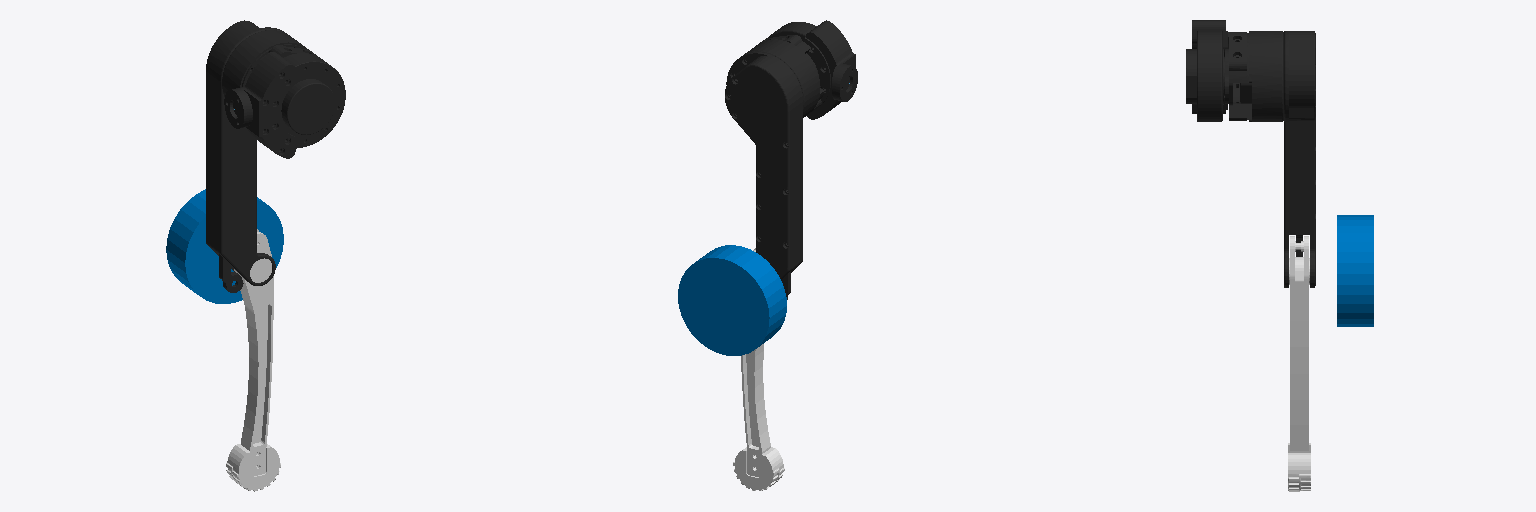
robot.urdf — single_leg:
<?xml version="1.0" ?>
<robot name="single_leg">

  <material name="blue">
    <color rgba="0.0 0.5 0.8 0.9"/>
  </material>

  <material name="black1">
    <color rgba="0.2 0.2 0.2 1"/>
  </material>

  <material name="white">
    <color rgba="0.9 0.9 0.9 0.5"/>
  </material>

  <link name="world"/>

  <joint name="fixed" type="fixed">
    <origin rpy="0 0 0" xyz="0 0 0.5"/>
    <parent link="world"/>
    <child link="base"/>
  </joint>

  <link name="base">
    <visual>
      <origin rpy="0 0 0" xyz="0 0 0"/>
      <geometry>
        <box size="0.001 0.001 0.001"/>
      </geometry>
    </visual>
  </link>

  <!--Front Left-->
  <link name="FL_hip">
    <inertial>
      <origin xyz="0.058975220413676505 -0.016130924422260128 -9.470708630414767e-05" rpy="0 0 0"/>
      <mass value = "0.7498"/>
      <inertia ixx = "0.000564" iyy = "0.00108127" izz = "0.000706572" ixy = "3.86383e-05" iyz = "0" ixz = "0"/>
    </inertial>
    <visual>
      <origin xyz="0.0 0.0 0.0" rpy="0 0 0"/>
      <geometry>
        <mesh filename="../meshes/hip_roll_1.stl" scale="0.001 0.001 0.001"/>
      </geometry>
      <material name="black1"/>
    </visual>
<!--    <collision>-->
<!--      <origin xyz="-0.185613 -0.065216 -0.000494" rpy="0 0 0"/>-->
<!--      <geometry>-->
<!--        <mesh filename="../meshes/hip_roll_1.stl" scale="0.001 0.001 0.001"/>-->
<!--      </geometry>-->
<!--    </collision>-->
  </link>

  <link name="FL_thigh">
    <inertial>
      <origin xyz="-0.005295476492297502 0.055863741051553104 -0.02739556562567192" rpy="0 0 0"/>
      <mass value = "1.539"/>
      <inertia ixx = "0.00728621" iyy = "0.00719179" izz = "0.00186201" ixy = "0.000190838" iyz = "0.00118773" ixz = "-0.000781702"/>
    </inertial>
    <visual>
      <origin xyz="-0.0705 0.003 0.0" rpy="0 0 0"/>
      <geometry>
        <mesh filename="../meshes/hip_pitch_1.stl" scale="0.001 0.001 0.001"/>
      </geometry>
      <material name="black1"/>
    </visual>
    <collision>
      <origin xyz="0 0.084 -0.23" rpy="1.57079632679 0 0"/>
      <geometry>
        <cylinder length="0.019" radius="0.015"/>
      </geometry>
    </collision>
  </link>

  <link name="FL_calf">
    <inertial>
      <origin xyz="0.00031304711228058446 0.018663901688305173 -0.11805864385255102" rpy="0 0 0"/>
      <mass value = "0.268"/>
      <inertia ixx = "0.00278652" iyy = "0.00280706" izz = "4.43533e-05" ixy = "-0" iyz = "3.86975e-06" ixz = "-1.99441e-05"/>
    </inertial>
    <visual>
      <origin xyz="-0.0705 -0.0815 0.23" rpy="0 0 0"/>
      <geometry>
        <mesh filename="../meshes/calf_1.stl" scale="0.001 0.001 0.001"/>
      </geometry>
      <material name="white"/>
    </visual>
    <collision>
      <origin xyz="0 0 -0.23" rpy="1.57079632679 0 0"/>
      <geometry>
        <cylinder length="0.024" radius="0.027"/>
      </geometry>
    </collision>
  </link>

  <link name="FL_wheel">
    <inertial>
      <origin xyz="0 0 0" rpy="0 0 0"/>
      <mass value="0.612"/>
      <inertia ixx = "0.00083348" ixy = "0" ixz = "0" iyx = "0" iyy = "0.00119531" iyz = "0" izx = "0" izy = "0" izz = "0.00083348"/>
    </inertial>
    <visual>
      <origin xyz="0 0 0" rpy="1.57079632679 0 0"/>
      <geometry>
        <cylinder length="0.04" radius="0.06"/>
      </geometry>
      <material name="blue"/>
    </visual>
    <collision>
      <origin xyz="0 0 0" rpy="1.57079632679 0 0"/>
      <geometry>
        <cylinder length="0.04" radius="0.06"/>
      </geometry>
    </collision>
  </link>

  <!--    joint -->
  <joint name="FL_HIP_ROLL" type="revolute">
    <origin xyz="0.0 0.0 0.0" rpy="0 0 0"/>
    <parent link="base"/>
    <child link="FL_hip"/>
    <axis xyz="1 0 0"/>
    <limit effort="30" velocity="13.0" lower="-1.8" upper="1.8" />
  </joint>

  <joint name="FL_HIP_PITCH" type="revolute">
    <origin xyz="0.0705 -0.003 0.0" rpy="0 0 0"/>
    <parent link="FL_hip"/>
    <child link="FL_thigh"/>
    <axis xyz="0 1 0"/>
    <limit effort="30" velocity="13.0" lower="-3.14" upper="1.8" />
  </joint>

  <joint name="FL_KNEE_PITCH" type="revolute">
    <origin xyz="0 0.0845 -0.23" rpy="0 0 0"/>
    <parent link="FL_thigh"/>
    <child link="FL_calf"/>
    <axis xyz="0 1 0"/>
    <limit effort="30" velocity="13.0" lower="-3.14" upper="0.0" />
  </joint>

  <joint name="FL_wheel_axis" type="fixed">
    <origin xyz="0 0.06 0.0" rpy="0 0 0"/>
    <parent link="FL_calf"/>
    <child link="FL_wheel"/>
  </joint>
</robot>

--- What the picture shows (computed from the rendered views, not written in the file) ---
3 views of the same robot in one strip: view 1: azimuth 30°, elevation 25°; view 2: azimuth 150°, elevation 25°; view 3: azimuth 270°, elevation 25° (orthographic).
Model single_leg with 6 links and 5 joints (3 revolute, 2 fixed), rooted at world, posed all joints at 0.
Links seen in each view (by area): view 1: FL_thigh, FL_hip, FL_calf, FL_wheel; view 2: FL_thigh, FL_wheel, FL_calf, FL_hip; view 3: FL_thigh, FL_calf, FL_wheel, FL_hip.
Link boxes in pixels (x1,y1,x2,y2): FL_thigh: (206, 20, 316, 292); FL_hip: (224, 52, 345, 158); FL_calf: (226, 229, 280, 491); FL_wheel: (166, 189, 283, 303); FL_thigh: (725, 35, 824, 299); FL_wheel: (678, 245, 786, 355); FL_calf: (733, 248, 784, 490); FL_hip: (768, 20, 857, 119); FL_thigh: (1224, 31, 1315, 287); FL_calf: (1288, 236, 1310, 491); FL_wheel: (1337, 215, 1373, 326); FL_hip: (1186, 20, 1228, 121).
Bounding box of the posed robot: 0.131 × 0.202 × 0.5416 m (x, y, z).
3 mesh visuals loaded from 3 distinct referenced files (3 binary STL).